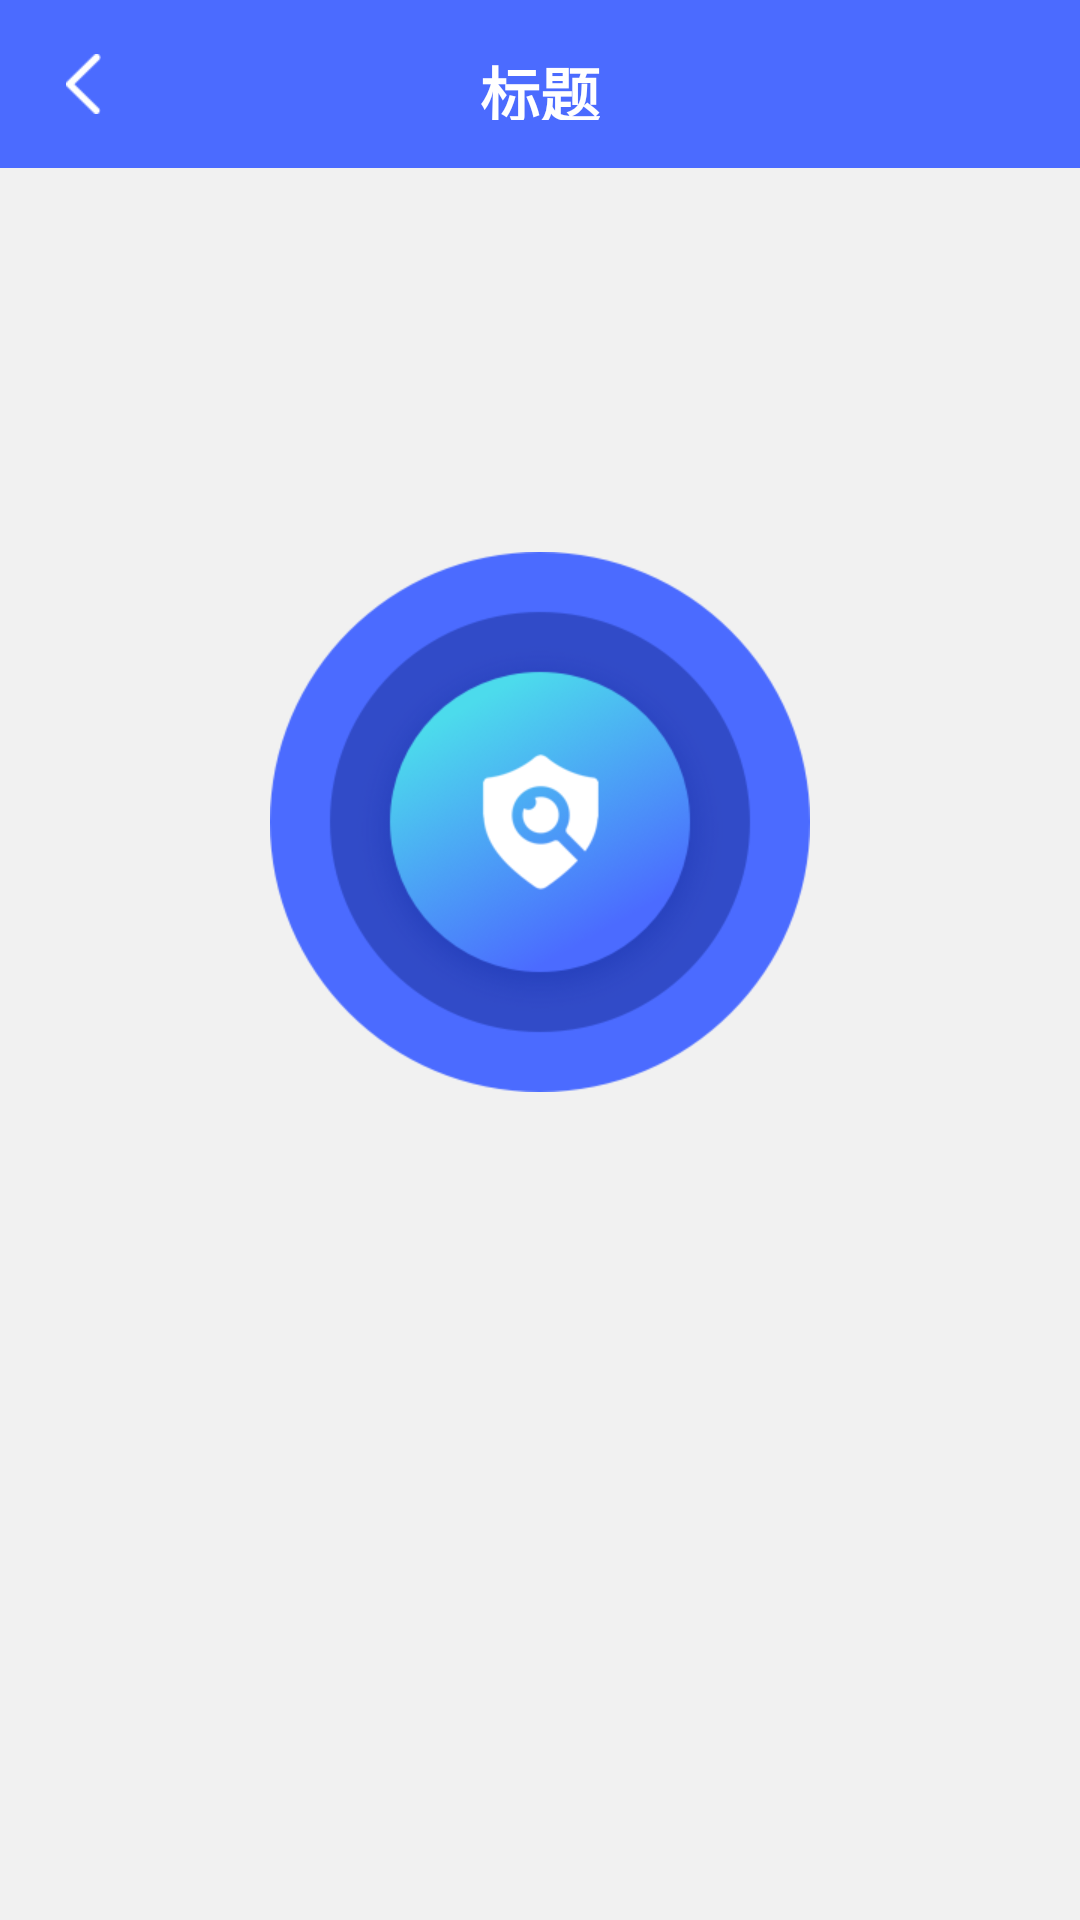

Locate icon controls on the screen. Image size 1080w x 1920h, boxes as (x1, y1, x2, y2).
back: (66, 54, 101, 114)
